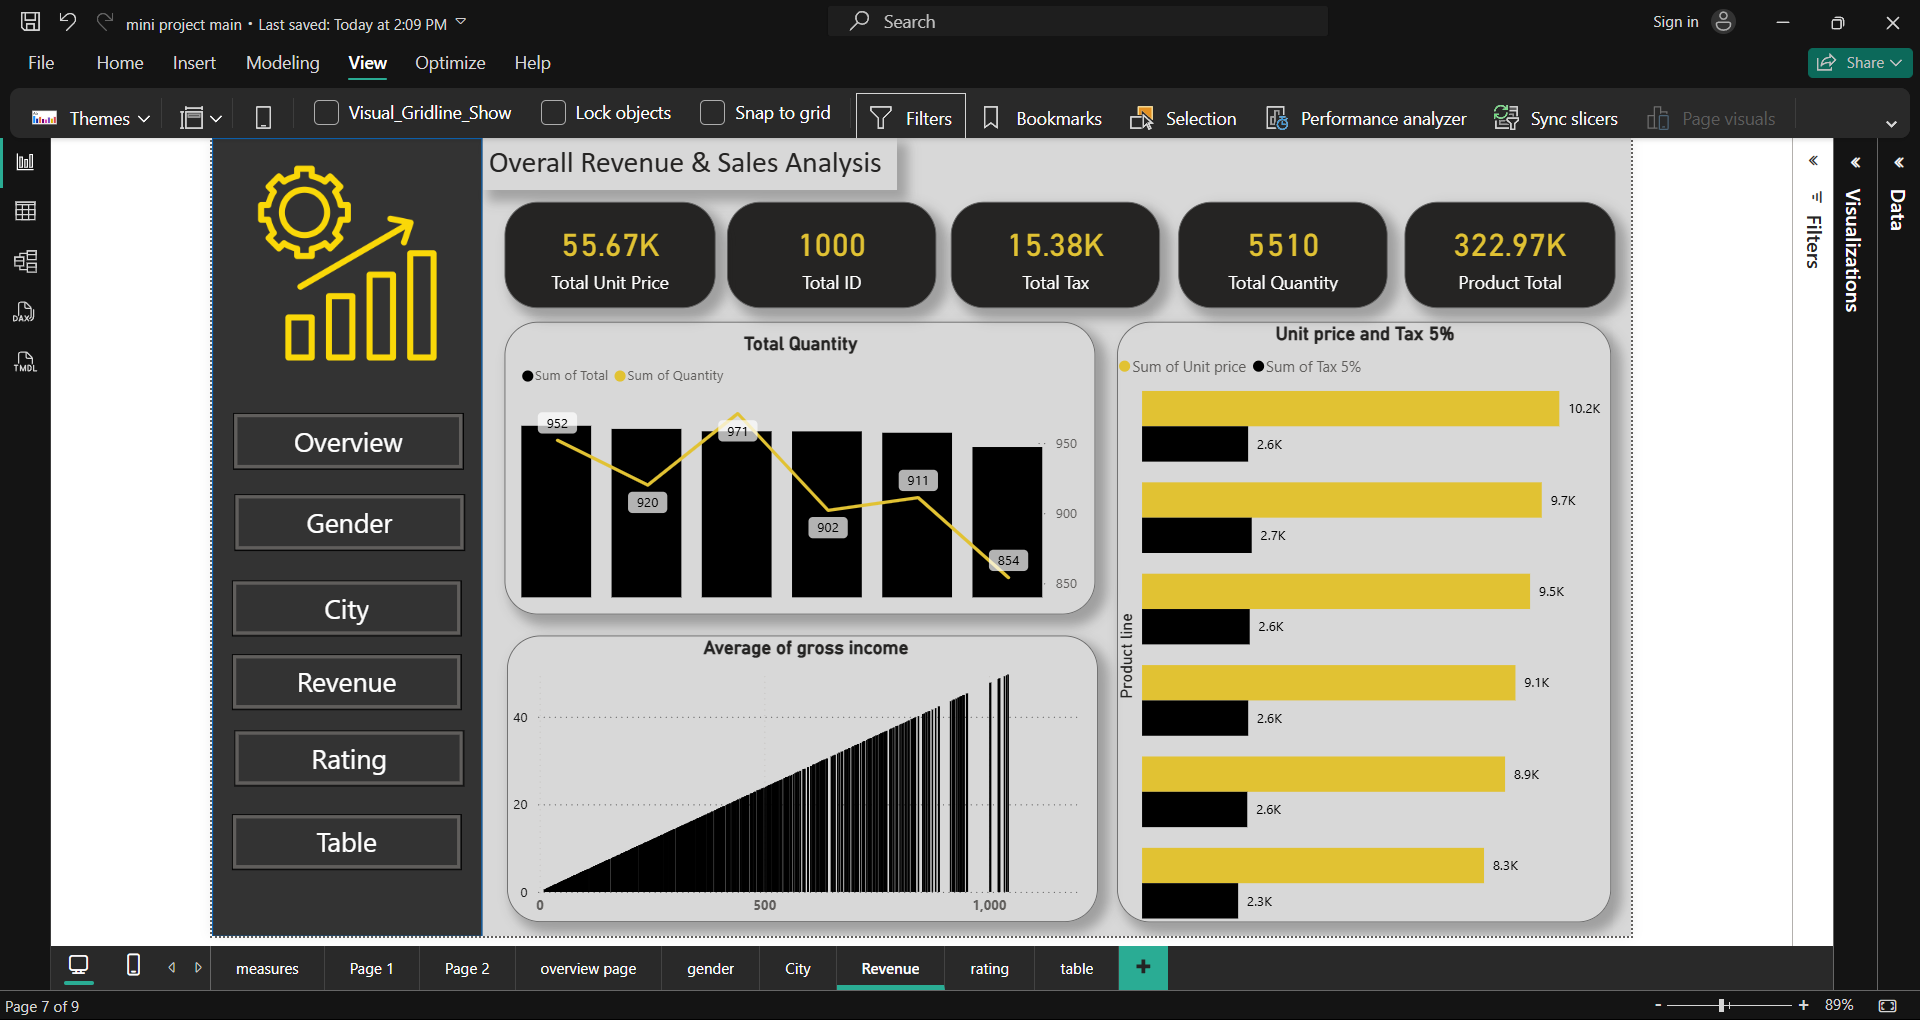

Layout of this report page (visuals, bound fields, positions):
{"tool":"powerbi","page":{"name":"Revenue","canvas":[1280,720],"ordinal":6},"visuals":[{"type":"shape","box":[0,0,243.8,720.3],"z":0},{"type":"textbox","box":[244.3,0,372.9,47.1],"z":1000},{"type":"card","fields":{"Values":["Sheet1.Product Total"]},"box":[1075.7,57.1,190,95.7],"z":2000},{"type":"card","fields":{"Values":["Sheet1.Total ID"]},"box":[464.3,57.1,188.6,95.7],"z":3000},{"type":"card","fields":{"Values":["Sheet1.Total Quantity"]},"box":[871.4,57.1,188.6,95.7],"z":4000},{"type":"card","fields":{"Values":["Sheet1.Total Tax"]},"box":[665.7,57.1,188.6,95.7],"z":5000},{"type":"card","fields":{"Values":["Sheet1.Total Unit Price"]},"box":[264.3,57.1,190,95.7],"z":6000},{"type":"actionButton","box":[18.7,247.5,207.7,51],"z":7000},{"type":"actionButton","box":[19.9,320.9,207.7,51],"z":8000},{"type":"image","box":[0,24.3,244.3,175.7],"z":9000},{"type":"actionButton","box":[18.6,398.6,207.1,50],"z":10000},{"type":"actionButton","box":[18.6,465.7,207.1,50],"z":11000},{"type":"lineStackedColumnComboChart","title":"Total Quantity","fields":{"Category":["Sheet1.Product line"],"Y":["Sum(Sheet1.Total)"],"Y2":["Sum(Sheet1.Quantity)"]},"box":[264.3,165.7,532.9,264.3],"z":12000},{"type":"clusteredBarChart","title":"Unit price and Tax 5% ","fields":{"Y":["Sum(Sheet1.Unit price)","Sum(Sheet1.Tax 5%)"],"Category":["Sheet1.Product line"]},"box":[815.7,165.7,445.7,541.4],"z":13000},{"type":"lineClusteredColumnComboChart","title":"Average of gross income ","fields":{"Category":["Sheet1.Total"],"Y":["Avg(Sheet1.gross income)"]},"box":[265.7,448.6,532.9,258.6],"z":14000},{"type":"actionButton","box":[20,534.3,207.1,50],"z":15000},{"type":"actionButton","box":[18.6,610,207.1,50],"z":16000}]}

Visuals, with their boxes on the page's 1280x720 design canvas (x1, y1, x2, y2). These are canvas units, not pixel positions in the 1920x1020 screenshot, which may show the page scaled, cropped or inside an application window:
shape: x1=0 y1=0 x2=244 y2=720
textbox: x1=244 y1=0 x2=617 y2=47
card - Sheet1.Product Total: x1=1076 y1=57 x2=1266 y2=153
card - Sheet1.Total ID: x1=464 y1=57 x2=653 y2=153
card - Sheet1.Total Quantity: x1=871 y1=57 x2=1060 y2=153
card - Sheet1.Total Tax: x1=666 y1=57 x2=854 y2=153
card - Sheet1.Total Unit Price: x1=264 y1=57 x2=454 y2=153
actionButton: x1=19 y1=248 x2=226 y2=298
actionButton: x1=20 y1=321 x2=228 y2=372
image: x1=0 y1=24 x2=244 y2=200
actionButton: x1=19 y1=399 x2=226 y2=449
actionButton: x1=19 y1=466 x2=226 y2=516
"Total Quantity" lineStackedColumnComboChart: x1=264 y1=166 x2=797 y2=430
"Unit price and Tax 5% " clusteredBarChart: x1=816 y1=166 x2=1261 y2=707
"Average of gross income " lineClusteredColumnComboChart: x1=266 y1=449 x2=799 y2=707
actionButton: x1=20 y1=534 x2=227 y2=584
actionButton: x1=19 y1=610 x2=226 y2=660
